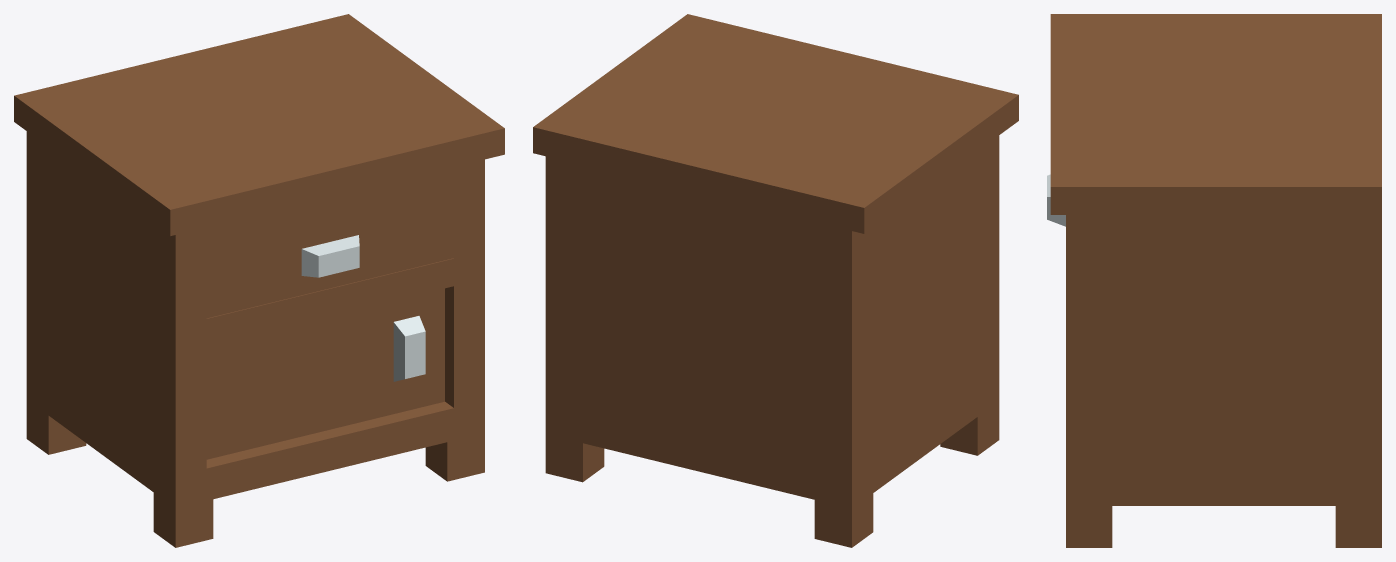
The model's file is m_nightstand.glb.
3 renders of one model, left to right at view 1: azimuth 30°, elevation 25°; view 2: azimuth 150°, elevation 25°; view 3: azimuth 270°, elevation 25°, orthographic. The views are drawn at different scales.
Parts seen in each view (by area): view 1: Mesh cabinetBedDrawer, door, drawer; view 2: Mesh cabinetBedDrawer; view 3: Mesh cabinetBedDrawer.
Boxes of the visible parts, x1,y1,x2,y2 form: Mesh cabinetBedDrawer: (14, 14, 504, 547); door: (206, 288, 444, 459); drawer: (206, 192, 453, 318); Mesh cabinetBedDrawer: (533, 14, 1018, 547); Mesh cabinetBedDrawer: (1050, 14, 1381, 547).
Bounding box in the file's own units: 0.5559 × 0.55 × 0.4541.
